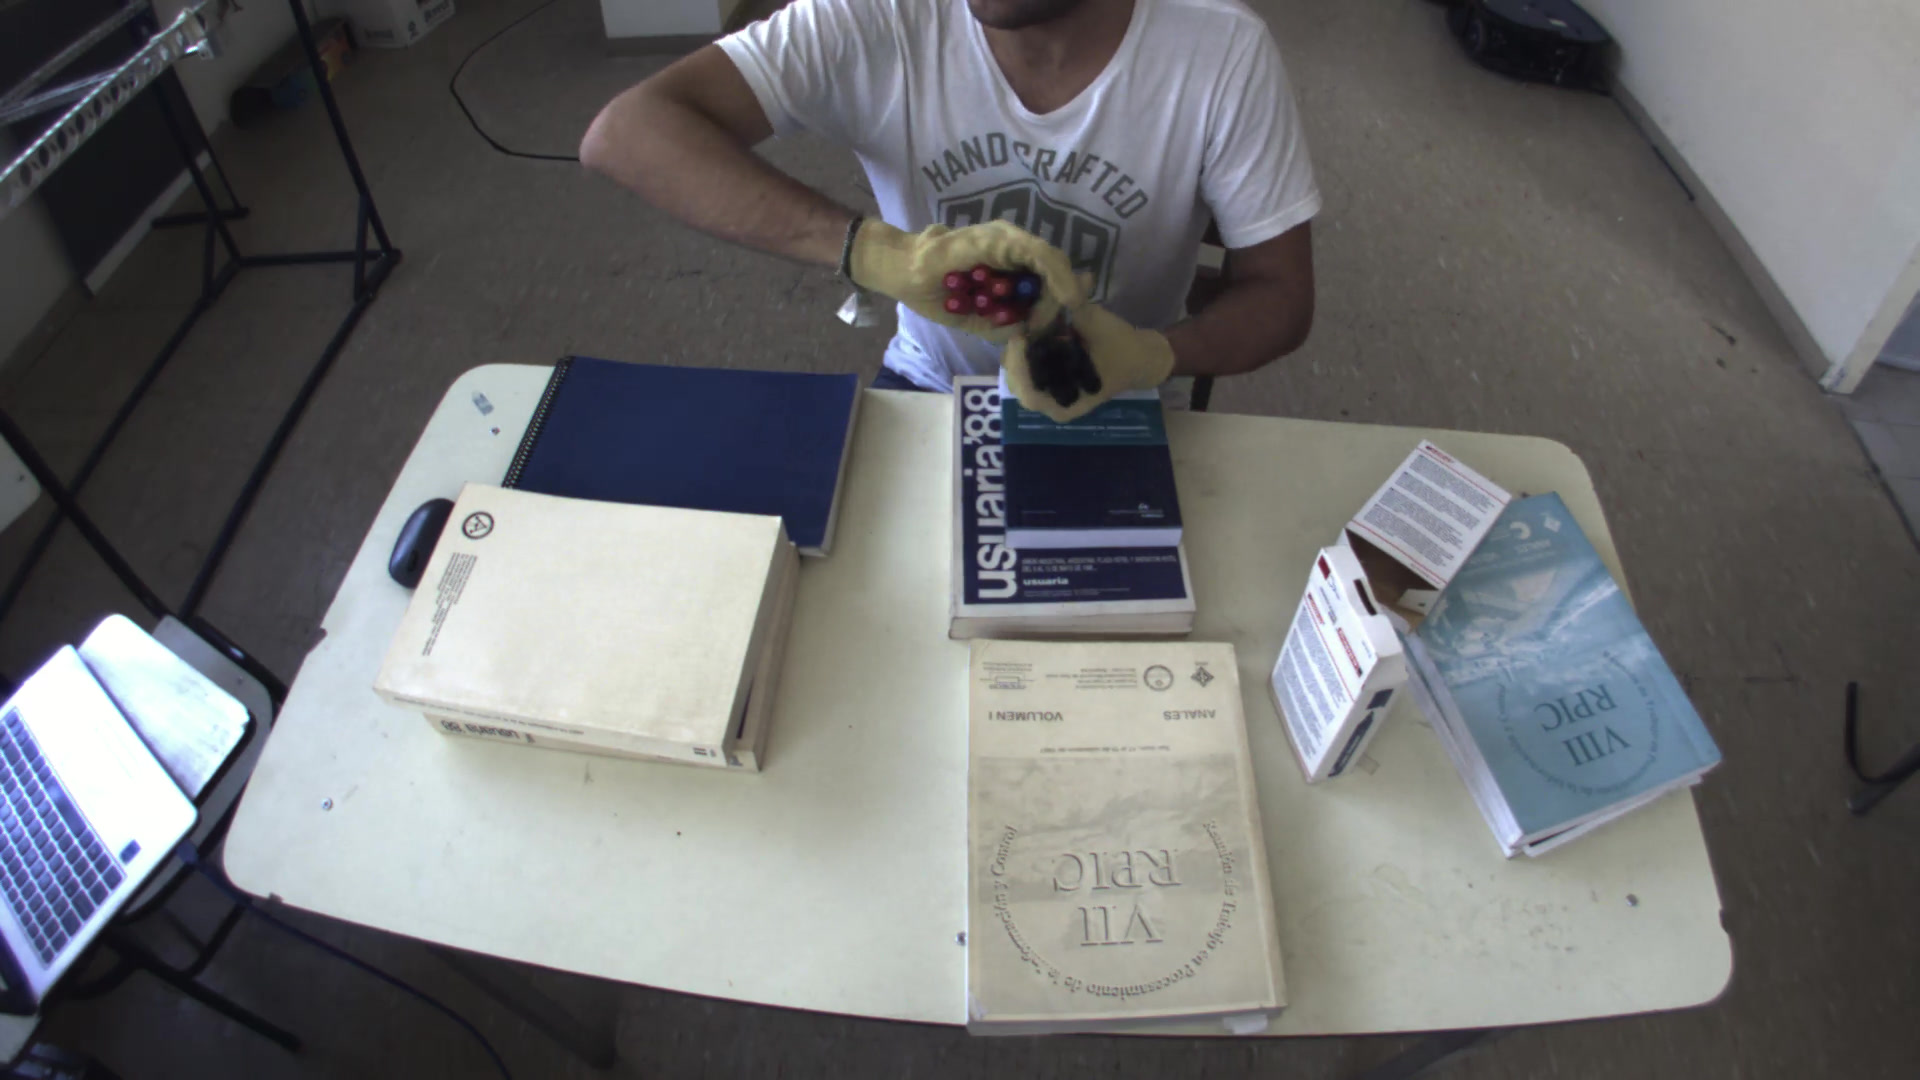hand: (831, 193, 1077, 326), (994, 289, 1188, 425)
